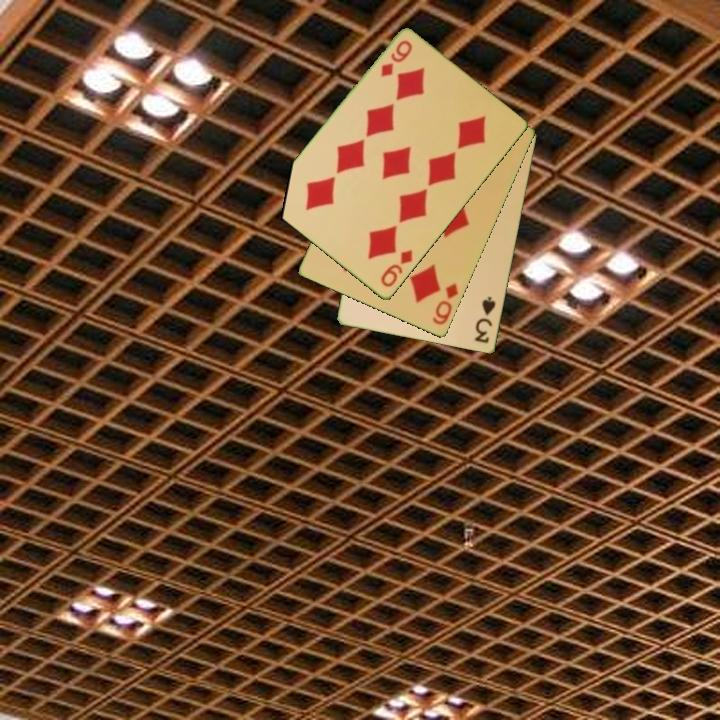3s: (471, 293, 499, 346)
6d: (429, 280, 461, 328)
9d: (377, 247, 416, 291), (377, 37, 415, 80)
